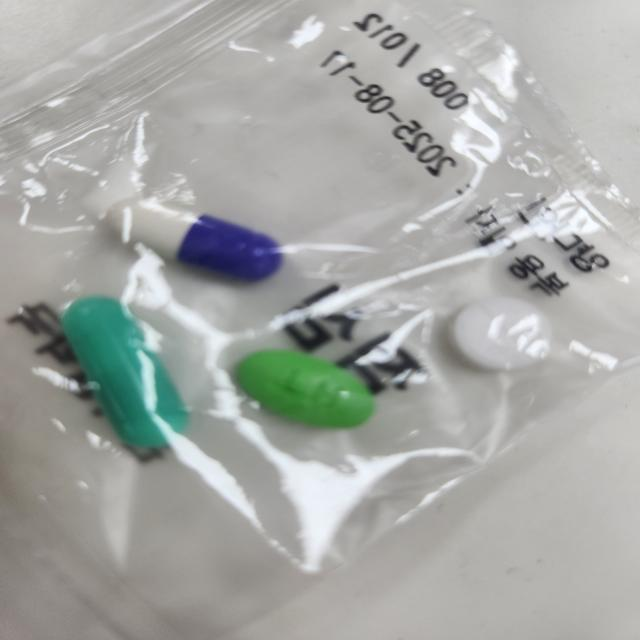러키펜정: (442, 301, 551, 373)
씨엠지세파클러캡슐: (107, 201, 284, 286)
에르도캡슐: (61, 297, 191, 454)
휴티렌정: (232, 351, 375, 431)
